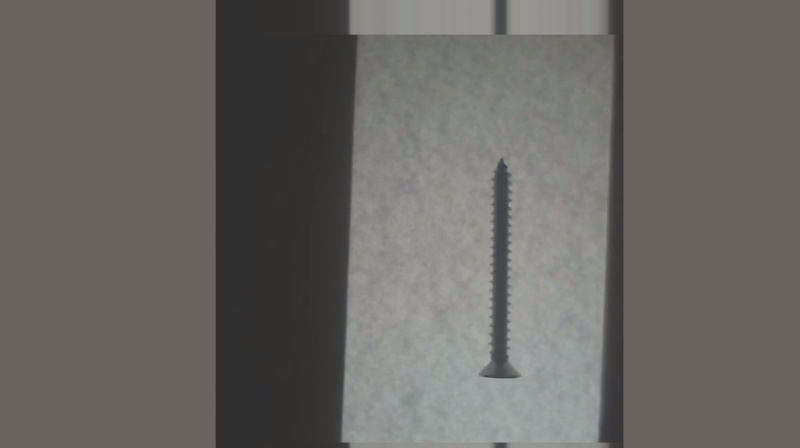S002: (475, 155, 524, 382)
